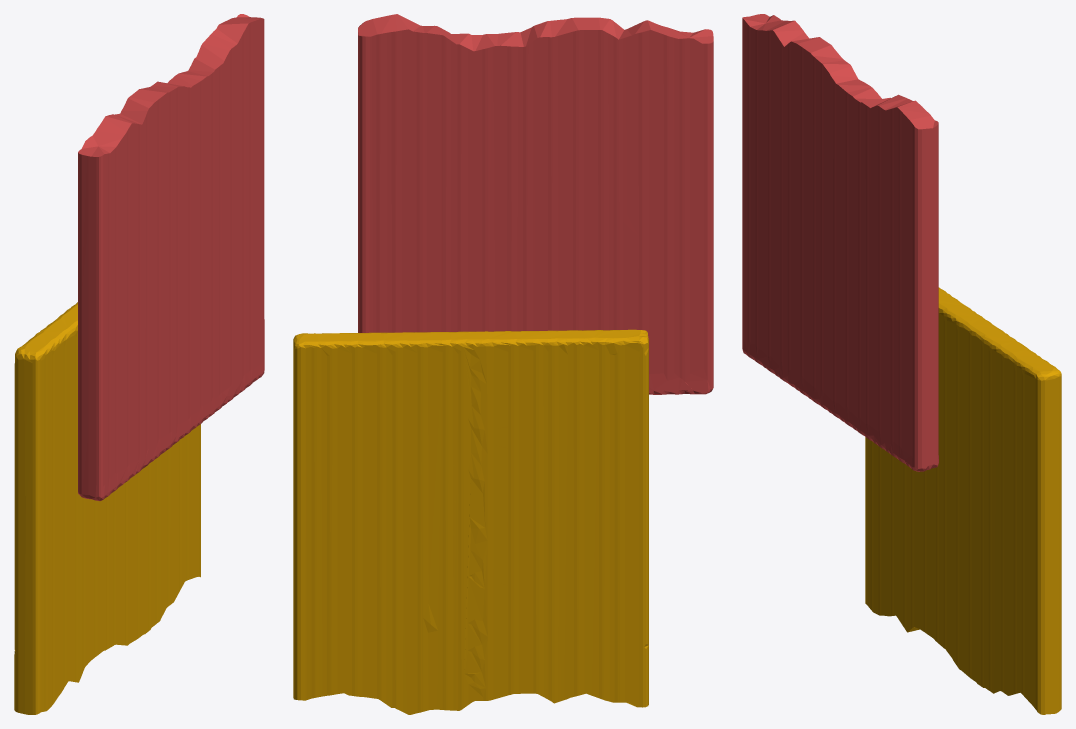
Rendered from fractured_42_2pcs_transformed.glb.
The picture shows the model from 3 angles, left to right: view 1: azimuth 30°, elevation 25°; view 2: azimuth 150°, elevation 25°; view 3: azimuth 270°, elevation 25°; orthographic projection. The views are drawn at different scales.
Parts seen in each view (by area): view 1: piece_1.obj, piece_0.obj; view 2: piece_0.obj, piece_1.obj; view 3: piece_1.obj, piece_0.obj.
Boxes of the visible parts, left/top/right/bottom form: piece_1.obj: left=78, top=14, right=264, bottom=501; piece_0.obj: left=14, top=302, right=200, bottom=714; piece_0.obj: left=293, top=329, right=648, bottom=714; piece_1.obj: left=358, top=14, right=713, bottom=394; piece_1.obj: left=742, top=14, right=938, bottom=471; piece_0.obj: left=865, top=287, right=1061, bottom=714.
Bounding box in the file's own units: 0.3933 × 0.8913 × 0.4232.
